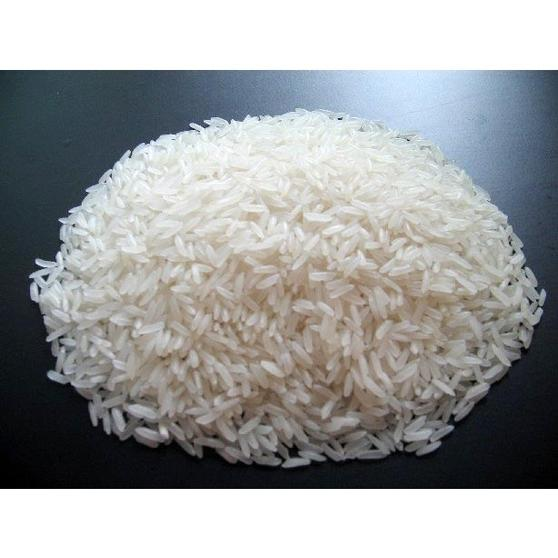rice: (21, 101, 548, 467)
